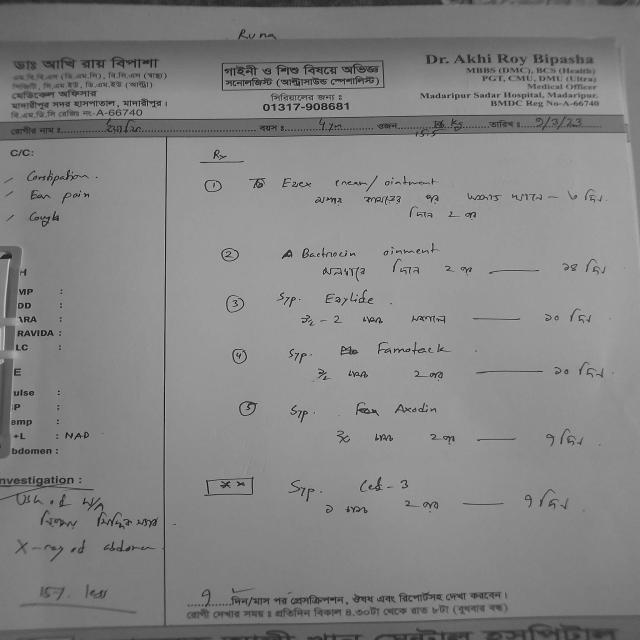Axodin: (387, 400, 447, 420)
Bactrocin: (298, 246, 360, 263)
Cef-3: (354, 470, 422, 497)
Ezex: (279, 176, 325, 194)
Ezylife: (322, 293, 384, 307)
Famotack: (369, 337, 451, 360)
